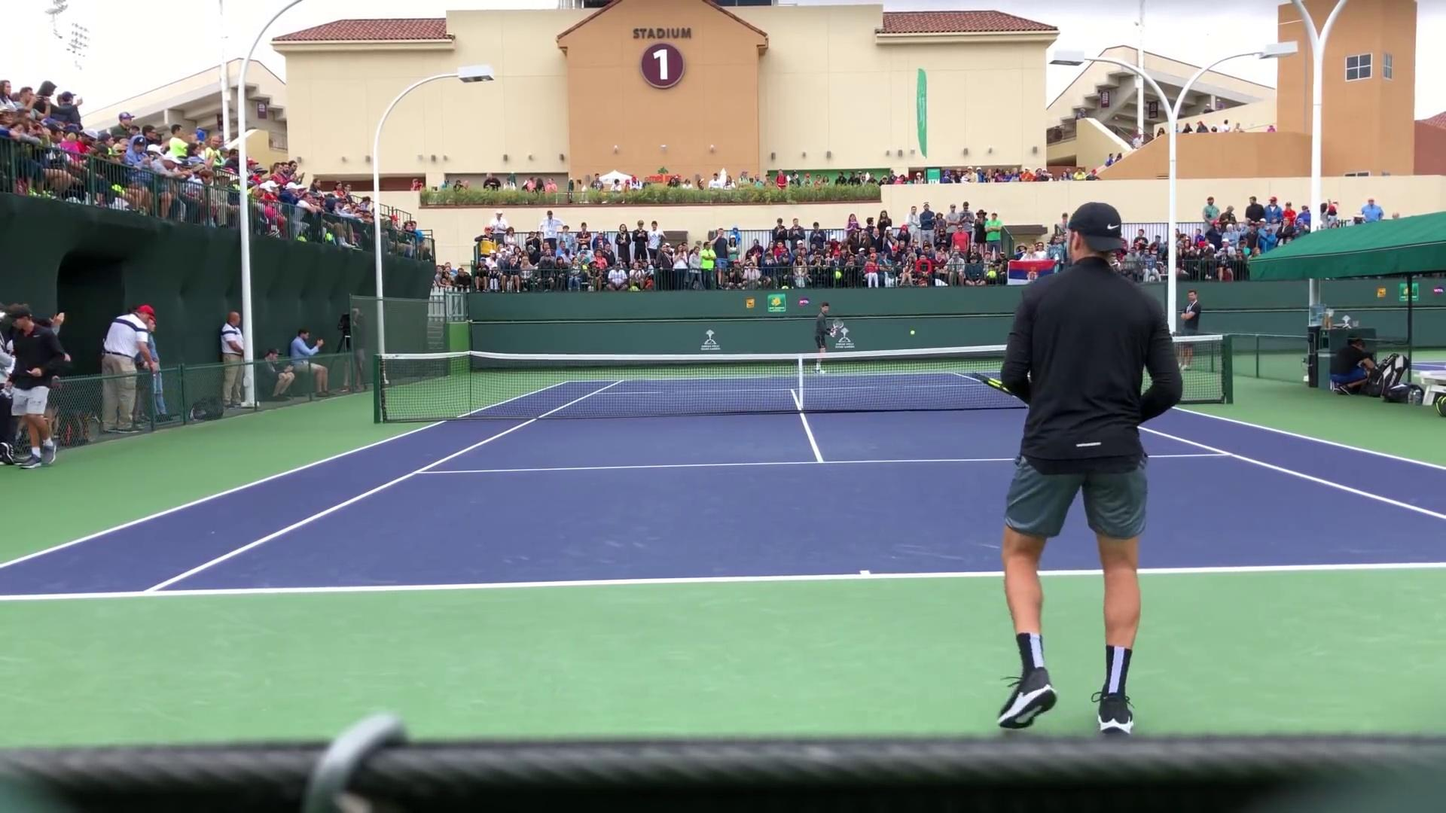ball: (909, 329, 916, 337)
